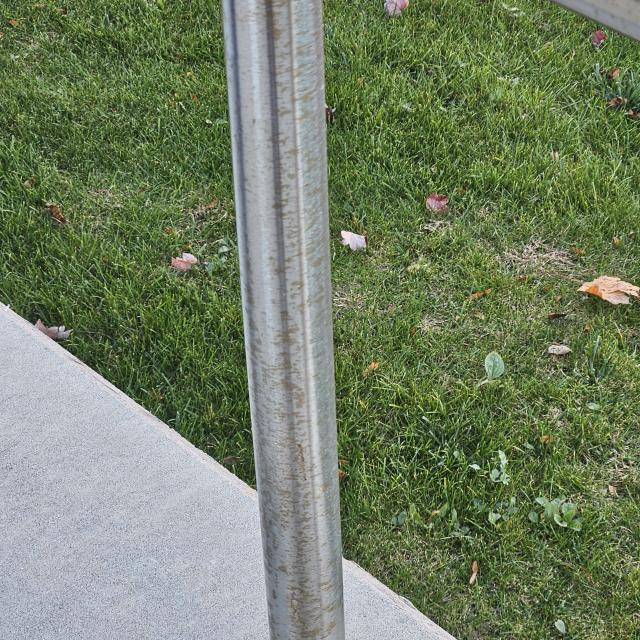Uniform Corrosion: (243, 1, 347, 640)
